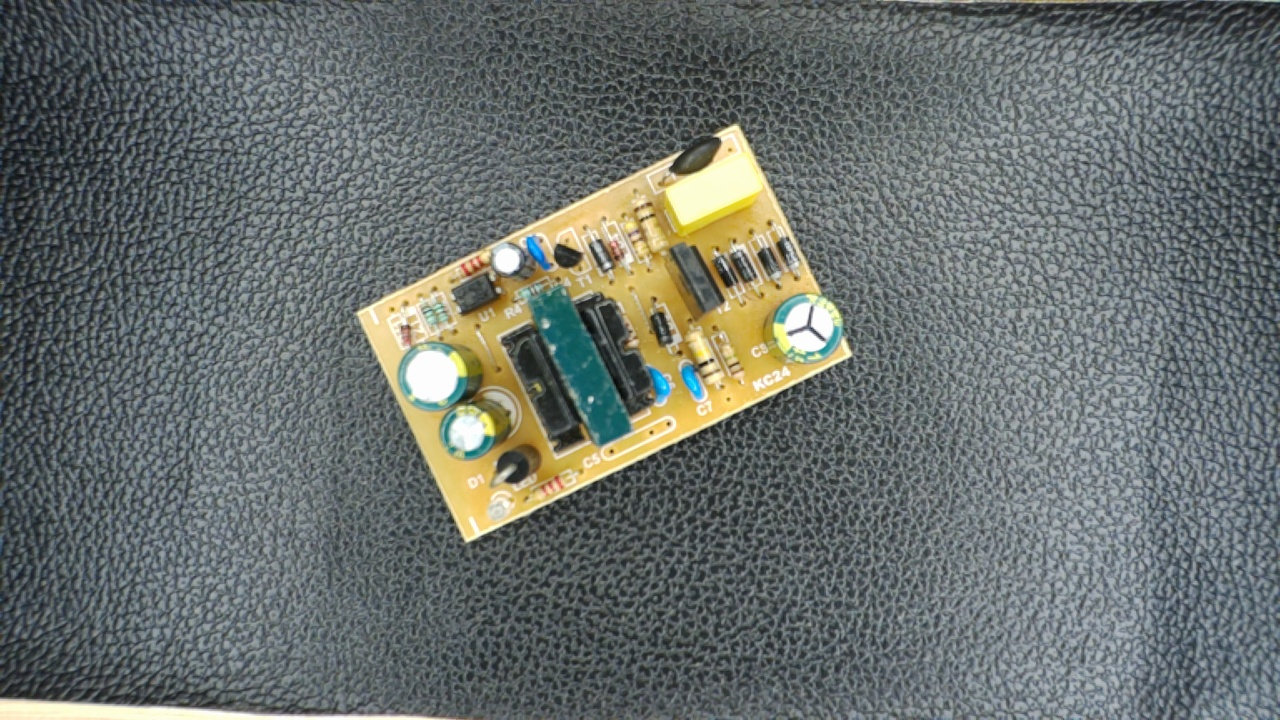fuse: (650, 132, 725, 188)
hv_capacitor: (761, 294, 846, 366)
optocoupler: (443, 273, 510, 315)
